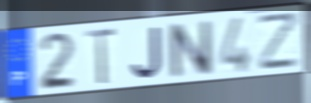2: (38, 31, 77, 92)
4: (219, 14, 252, 75)
J: (131, 25, 164, 80)
N: (166, 19, 215, 80)
T: (84, 26, 118, 87)
Z: (257, 10, 300, 73)
